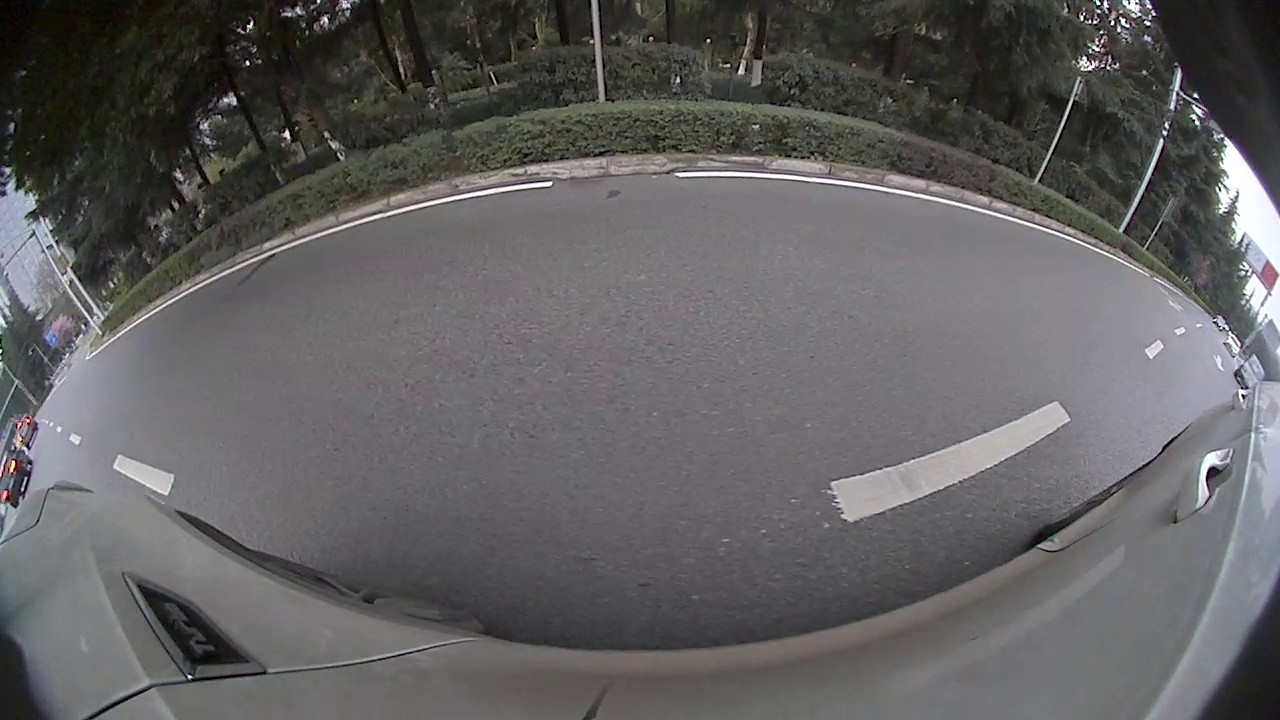car: (1, 444, 33, 509), (1234, 353, 1267, 389), (12, 411, 40, 446), (1223, 331, 1242, 360)
